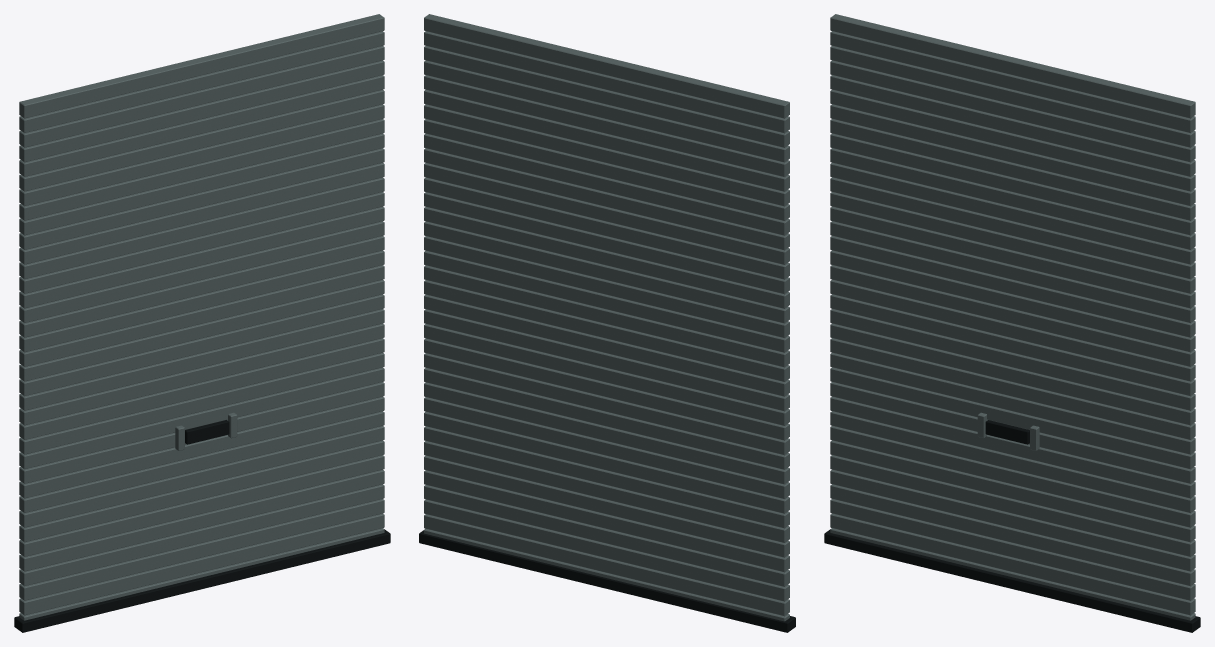
File: roller_shutter_2m.glb
3 views of the same model, side by side, from view 1: azimuth 30°, elevation 25°; view 2: azimuth 150°, elevation 25°; view 3: azimuth 330°, elevation 25° (orthographic).
Visible parts, largest first — view 1: roller_shutter_2m; view 2: roller_shutter_2m; view 3: roller_shutter_2m.
Boxes of the visible parts, bbox=[...] form: roller_shutter_2m: bbox=[14, 14, 390, 632]; roller_shutter_2m: bbox=[419, 14, 795, 632]; roller_shutter_2m: bbox=[824, 14, 1200, 632].
Bounding box in the file's own units: 1.9 × 2.59 × 0.0895.
Materials: 2 (2 with a texture image).
